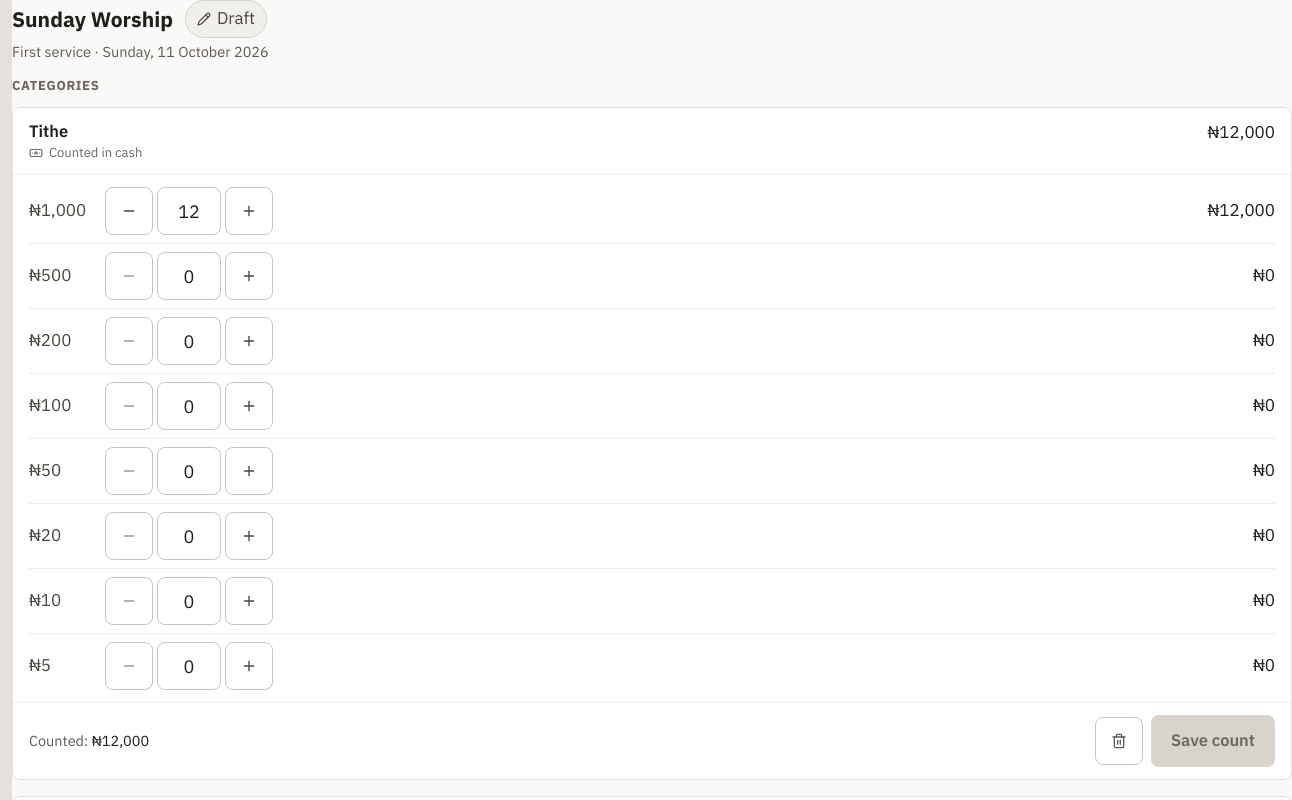
Test: a counted but unsaved figure › retracts the block when the field is put back to the saved value
The image size is (1292, 800).
Step 1. Replace the text in the field named "How many 1,000 naira notes" with "20" → [189, 211], box [157,187,221,235]
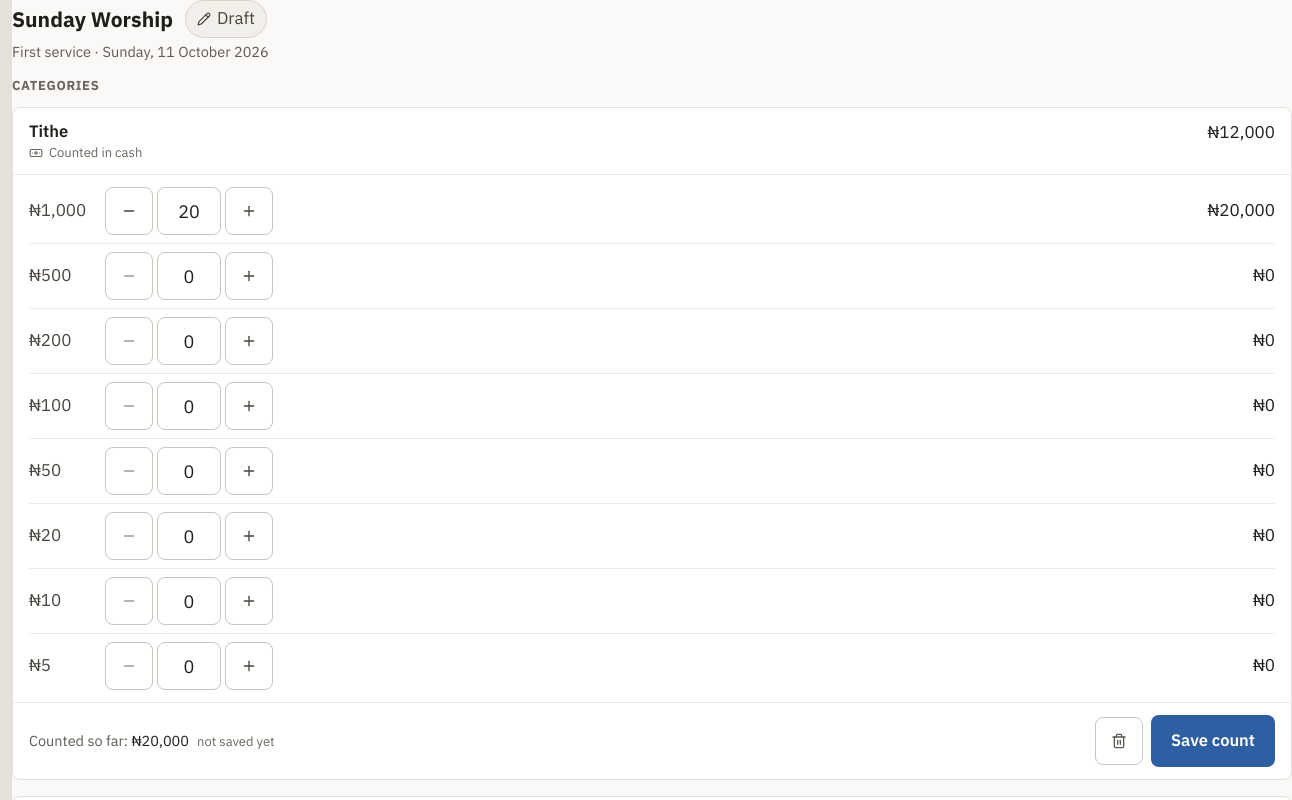
Step 2. Replace the text in the field named "How many 1,000 naira notes" with "12" → [189, 211], box [157,187,221,235]
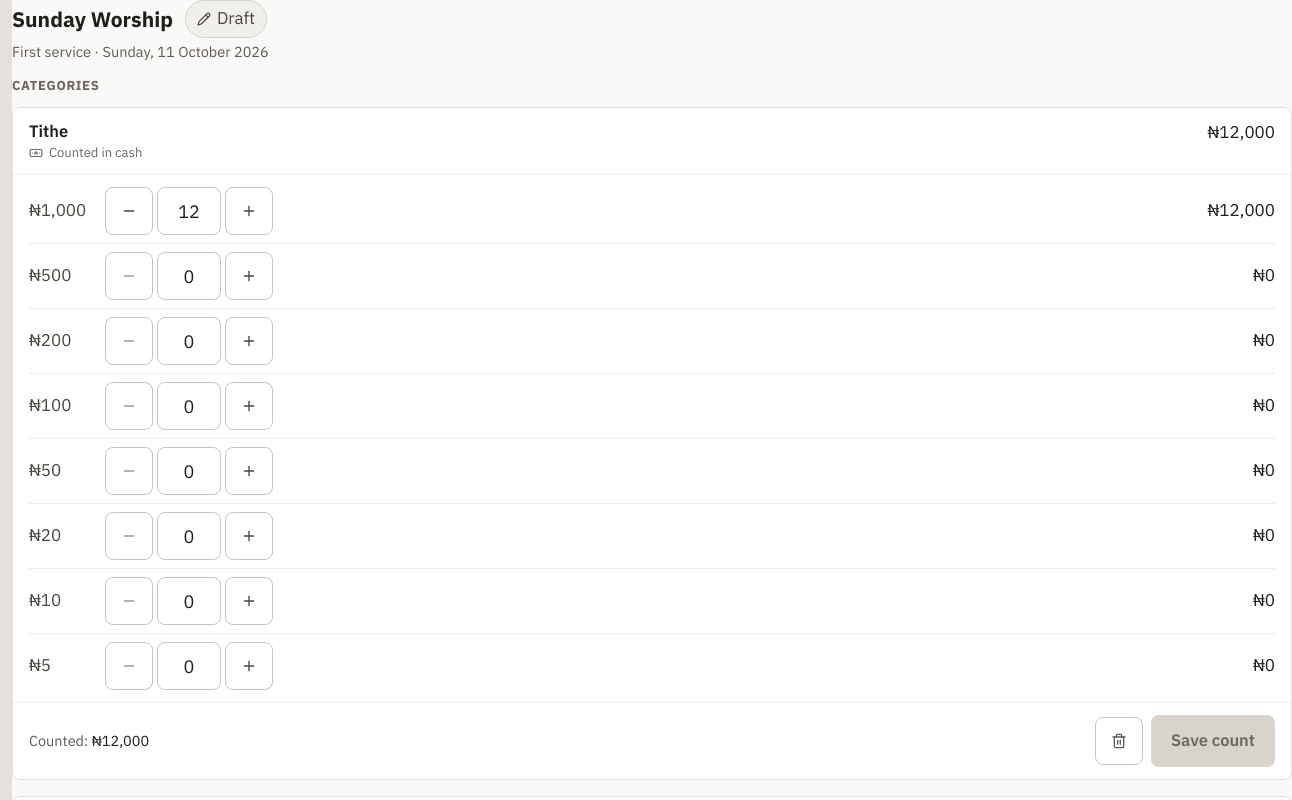
Expected: the element "Tithe" shows "Counted:", [29,731,92,750]
Expected: the text "Tithe" no longer shows "not saved yet"
